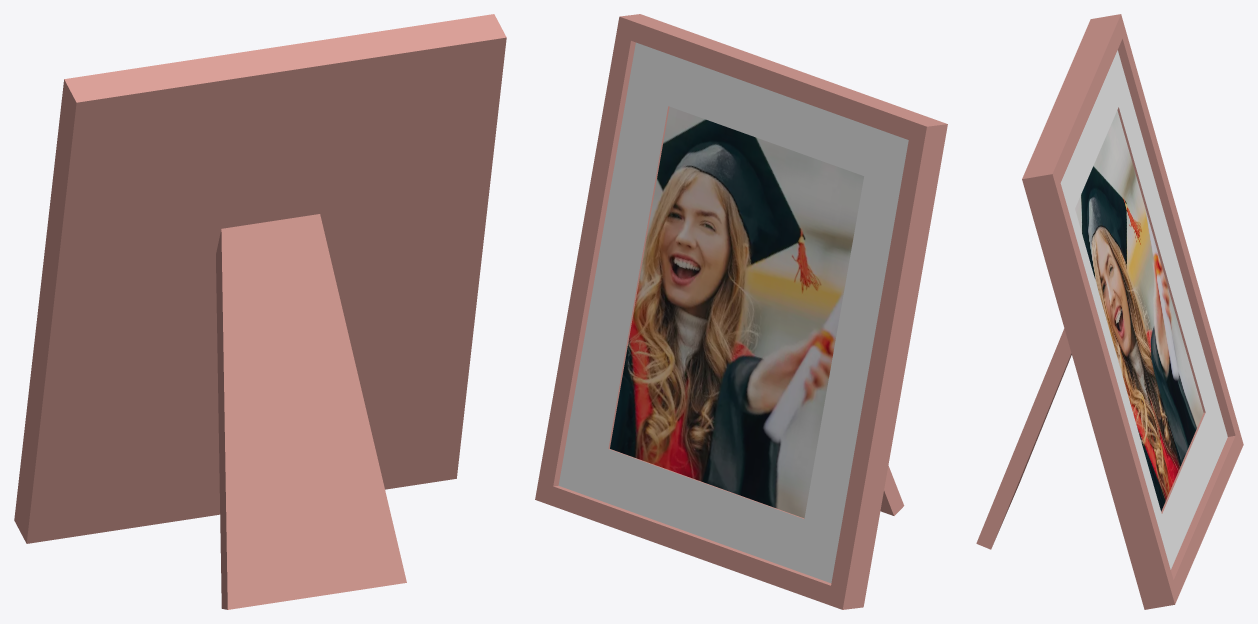
The model's file is quadro_scivania1.fbx.
3 renders of one model, left to right at view 1: azimuth 30°, elevation 25°; view 2: azimuth 150°, elevation 25°; view 3: azimuth 270°, elevation 25°, orthographic. The views are drawn at different scales.
Parts seen in each view (by area): view 1: quadr1; view 2: quadr1; view 3: quadr1.
Part boxes in pixels (<box>): quadr1: <box>14,14,506,609</box>; quadr1: <box>535,14,947,609</box>; quadr1: <box>976,14,1243,609</box>.
Bounding box in the file's own units: 17.74 × 20.66 × 11.67.
1 material, 1 textured.
